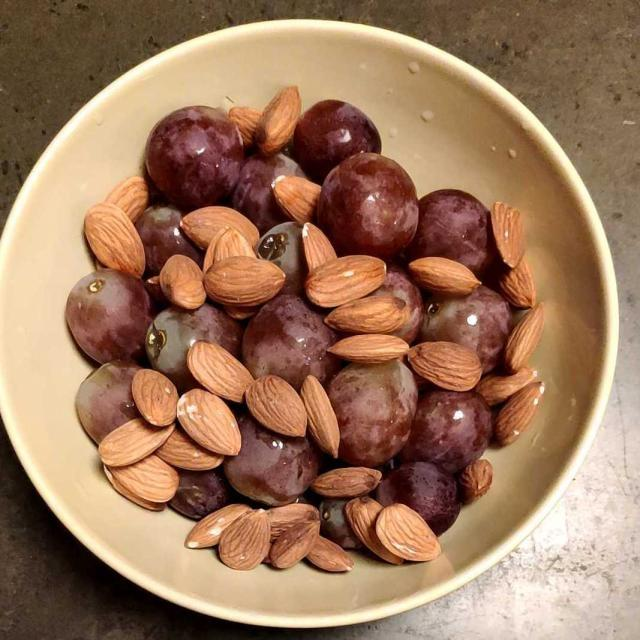grapes: (81, 114, 505, 517)
